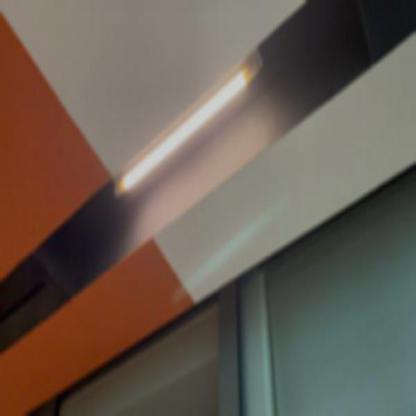light_on: (110, 46, 277, 230)
